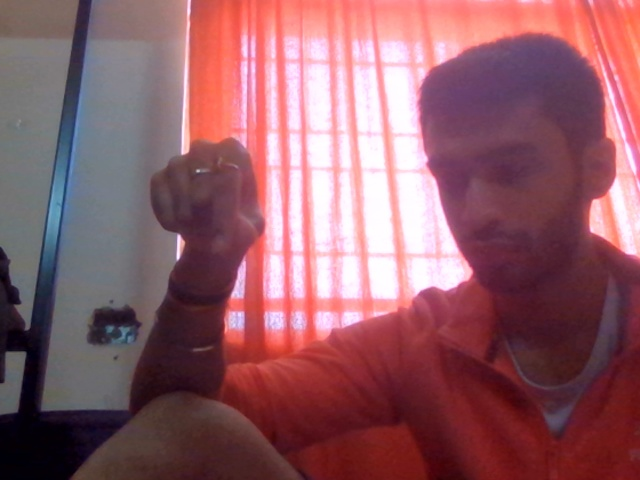Q: (144, 124, 307, 321)
